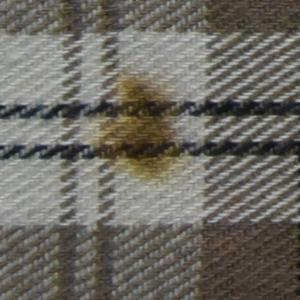Oil Stain: (92, 68, 196, 189)
